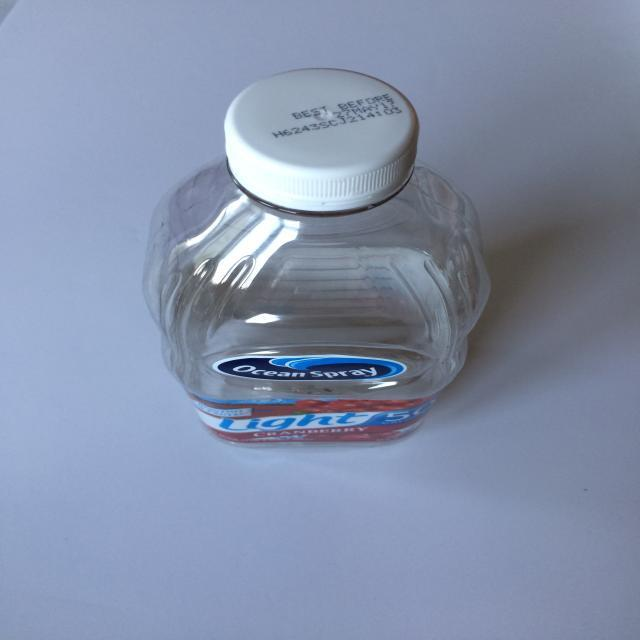plastic: (105, 69, 508, 454)
